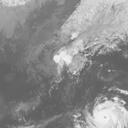cyclone: (48, 43, 86, 74), (86, 100, 127, 127)
